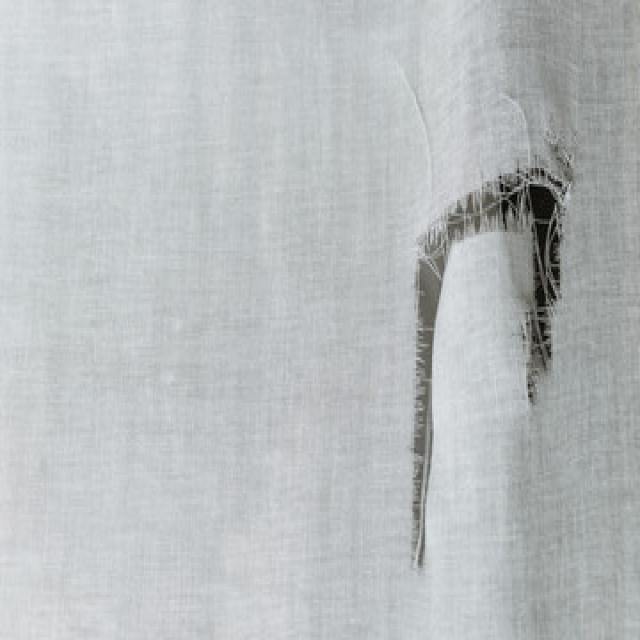Hole: (412, 150, 571, 568)
